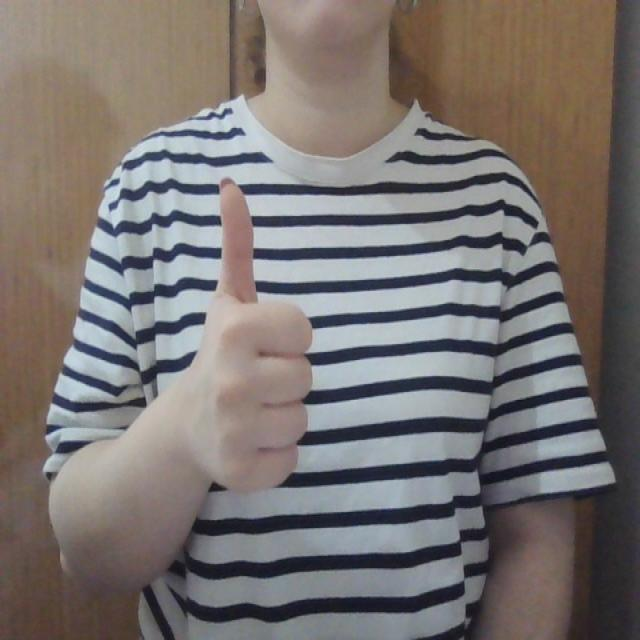Tamam: (178, 166, 330, 518)
